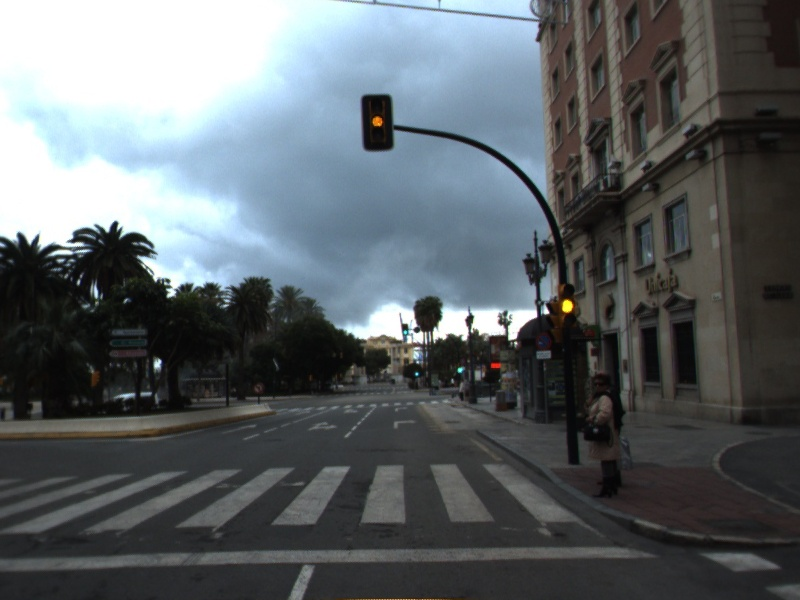RIGHT: (391, 417, 420, 431)
STRAIGHT: (219, 422, 258, 435)
STRAIGHT_RIGHT: (305, 419, 340, 433)
